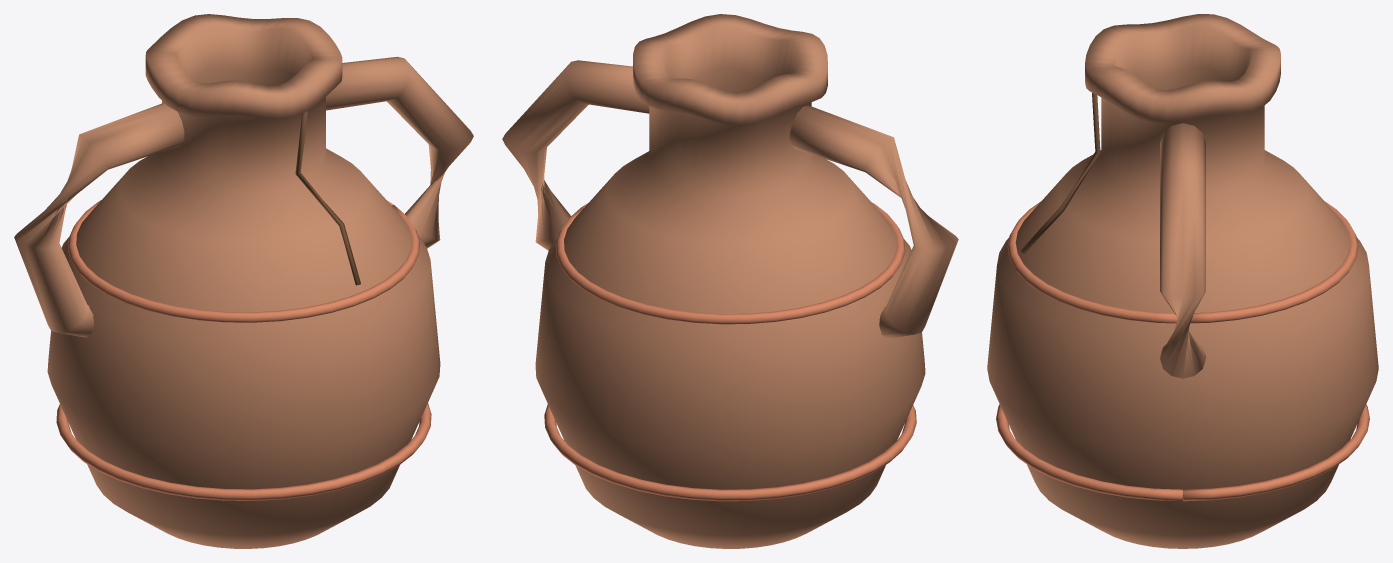
Rendered from weathered-amphora.glb.
3 views of the same model, side by side, from view 1: azimuth 30°, elevation 25°; view 2: azimuth 150°, elevation 25°; view 3: azimuth 270°, elevation 25° (orthographic).
Visible parts, largest first — view 1: Hollow ceramic vessel, Loop handle, Loop handle.001, Incised decorative band, Incised decorative band.001, Dark hairline crack; view 2: Hollow ceramic vessel, Loop handle, Loop handle.001, Incised decorative band, Incised decorative band.001; view 3: Hollow ceramic vessel, Loop handle.001, Incised decorative band, Incised decorative band.001, Dark hairline crack.
Part boxes in pixels (x1,y1,x2,y2): Hollow ceramic vessel: [47, 14, 440, 548]; Loop handle: [14, 103, 184, 337]; Loop handle.001: [326, 56, 473, 248]; Incised decorative band: [56, 403, 431, 500]; Incised decorative band.001: [68, 200, 419, 322]; Dark hairline crack: [295, 111, 360, 285]; Hollow ceramic vessel: [535, 14, 925, 548]; Loop handle: [789, 105, 958, 339]; Loop handle.001: [502, 60, 649, 250]; Incised decorative band: [544, 404, 916, 501]; Incised decorative band.001: [555, 202, 905, 324]; Hollow ceramic vessel: [987, 14, 1378, 548]; Loop handle.001: [1160, 123, 1205, 378]; Incised decorative band: [996, 404, 1369, 501]; Incised decorative band.001: [1007, 201, 1358, 323]; Dark hairline crack: [1021, 93, 1100, 253].
Size of the model in its own units: 1.6 by 1.54 by 1.2.
